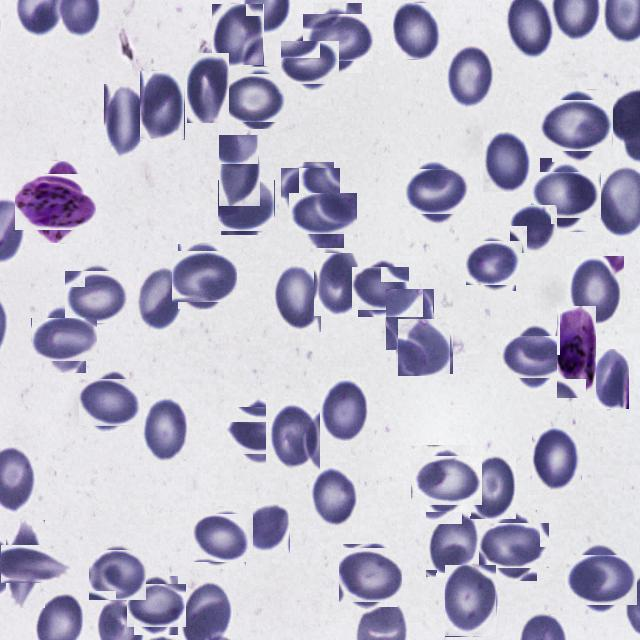red blood cell: (566, 256, 624, 325), (266, 399, 320, 471), (570, 549, 632, 610), (546, 95, 608, 156), (445, 565, 497, 637), (426, 512, 482, 578), (533, 165, 594, 225), (416, 450, 476, 511), (0, 533, 58, 596), (308, 8, 368, 68), (318, 376, 372, 441), (341, 546, 400, 605), (175, 247, 233, 306), (272, 263, 321, 332), (486, 516, 544, 574), (406, 163, 464, 220), (230, 402, 287, 460), (445, 46, 496, 110), (68, 268, 124, 326), (212, 4, 264, 66), (310, 462, 360, 526), (532, 427, 582, 491), (104, 84, 147, 157), (82, 375, 138, 431), (142, 396, 190, 461), (136, 268, 184, 333), (140, 71, 185, 140), (314, 253, 363, 316), (507, 330, 562, 386), (36, 312, 92, 367), (194, 510, 250, 565), (295, 186, 350, 242), (397, 320, 452, 375), (230, 70, 284, 126), (219, 135, 261, 207), (187, 53, 229, 123), (386, 289, 434, 350), (220, 178, 274, 232), (91, 548, 145, 602), (483, 130, 530, 192), (392, 2, 442, 60), (470, 456, 516, 519), (283, 165, 337, 218), (130, 580, 182, 632), (468, 237, 520, 288), (284, 38, 336, 88), (355, 263, 405, 314), (510, 205, 558, 254), (242, 504, 290, 553), (592, 349, 629, 409)
schizont: (21, 168, 90, 236)
trophozoite: (556, 306, 596, 399)
